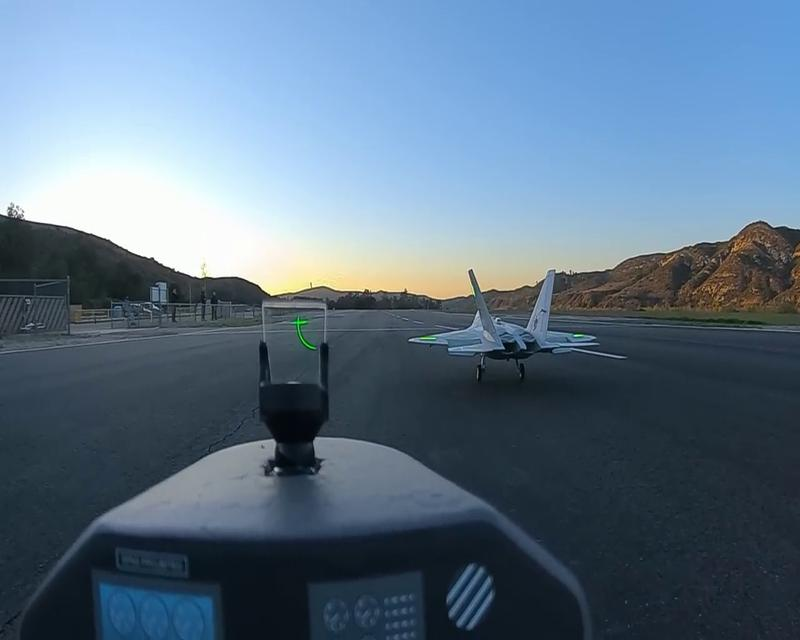UAV: (408, 269, 600, 383)
